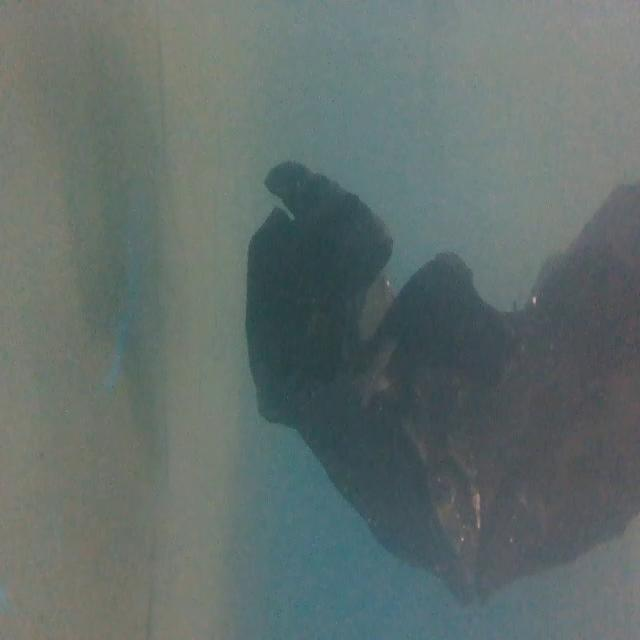plastic bags: (242, 156, 640, 602)
